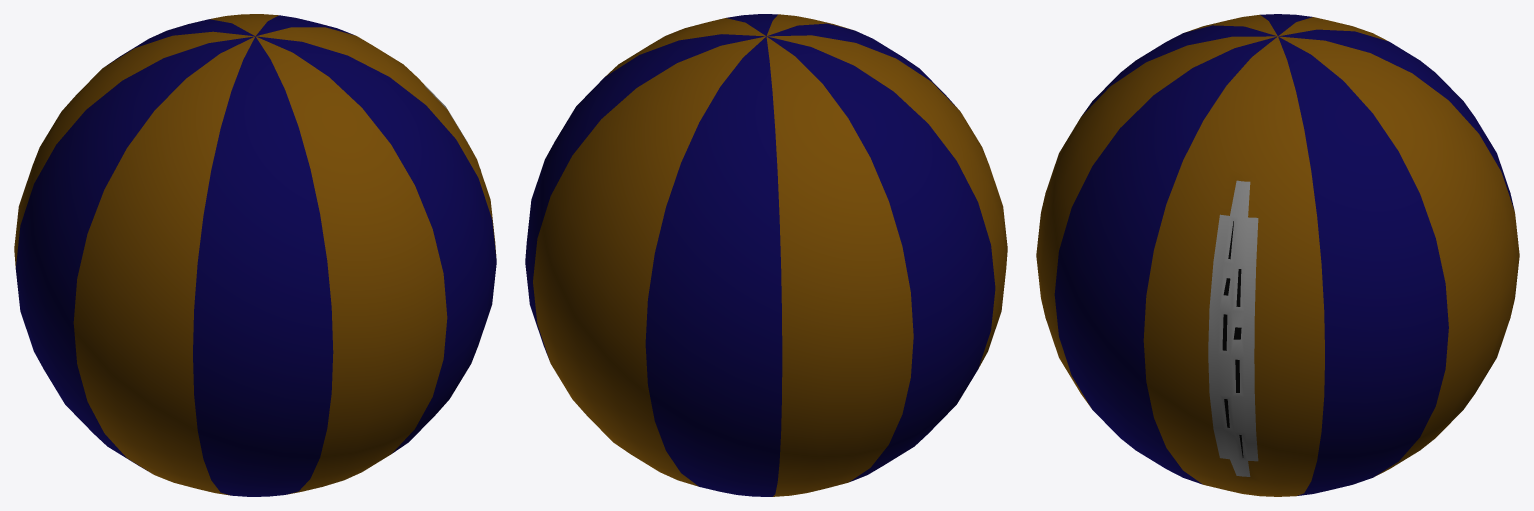
File: vole.fbx
3 views of the same model, side by side, from view 1: azimuth 30°, elevation 25°; view 2: azimuth 150°, elevation 25°; view 3: azimuth 270°, elevation 25° (orthographic).
Visible parts, largest first — view 1: Сфера; view 2: Сфера; view 3: Сфера.
Boxes of the visible parts, left/top/right/bottom form: Сфера: left=14, top=14, right=496, bottom=496; Сфера: left=525, top=14, right=1007, bottom=496; Сфера: left=1036, top=14, right=1519, bottom=496.
Size of the model in its own units: 47.78 by 47.78 by 47.78.
